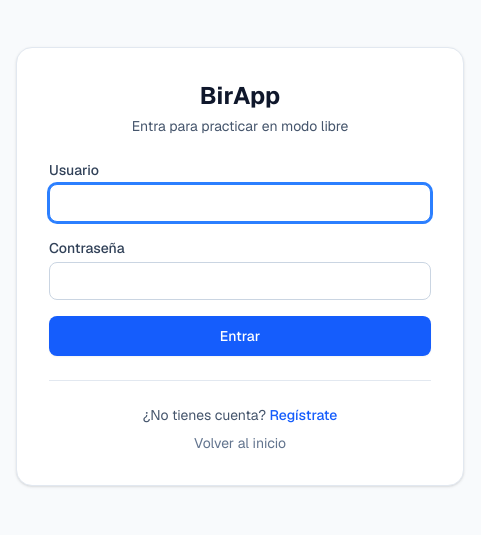
LoginPage (/login) › shows error alert and does not redirect when credentials are invalid
In the field labelled "Usuario": (240, 202) [49,184,431,222], type "demo"
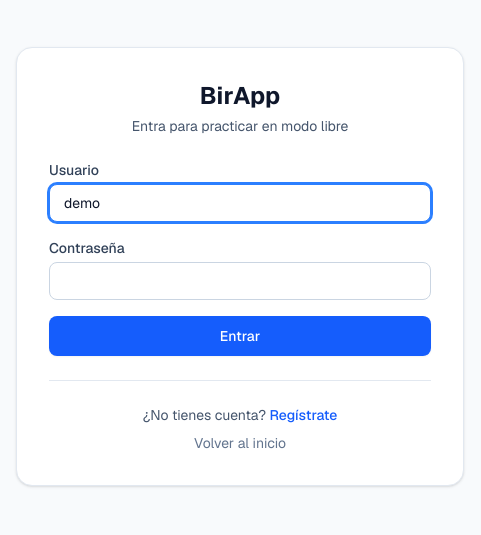
In the password field labelled "Contraseña": (240, 280) [49,262,431,300], type "wrongpassword"
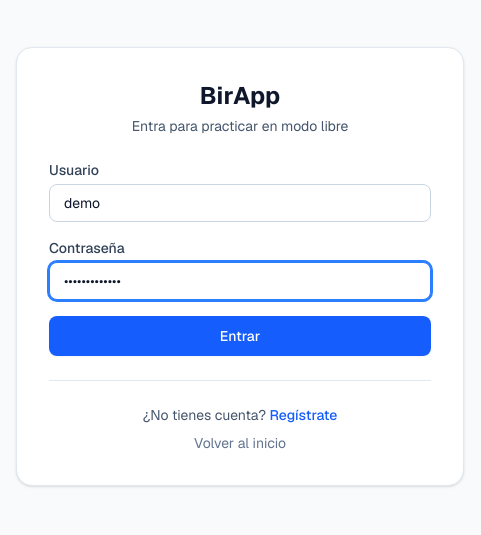
Click the button "Entrar": (240, 336) [49,316,431,356]
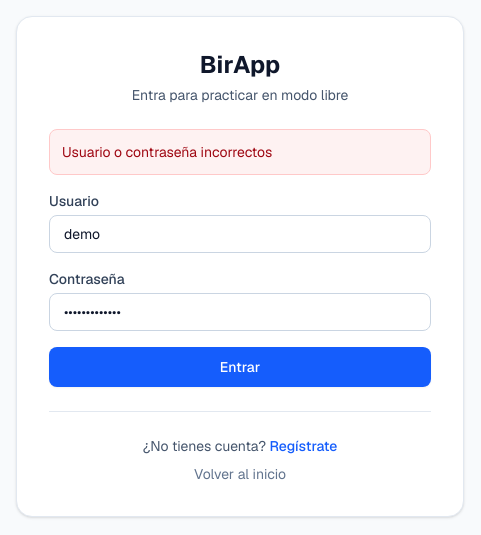
Check: the text "Usuario o contraseña incorrectos" is shown, box [49,128,431,174]
